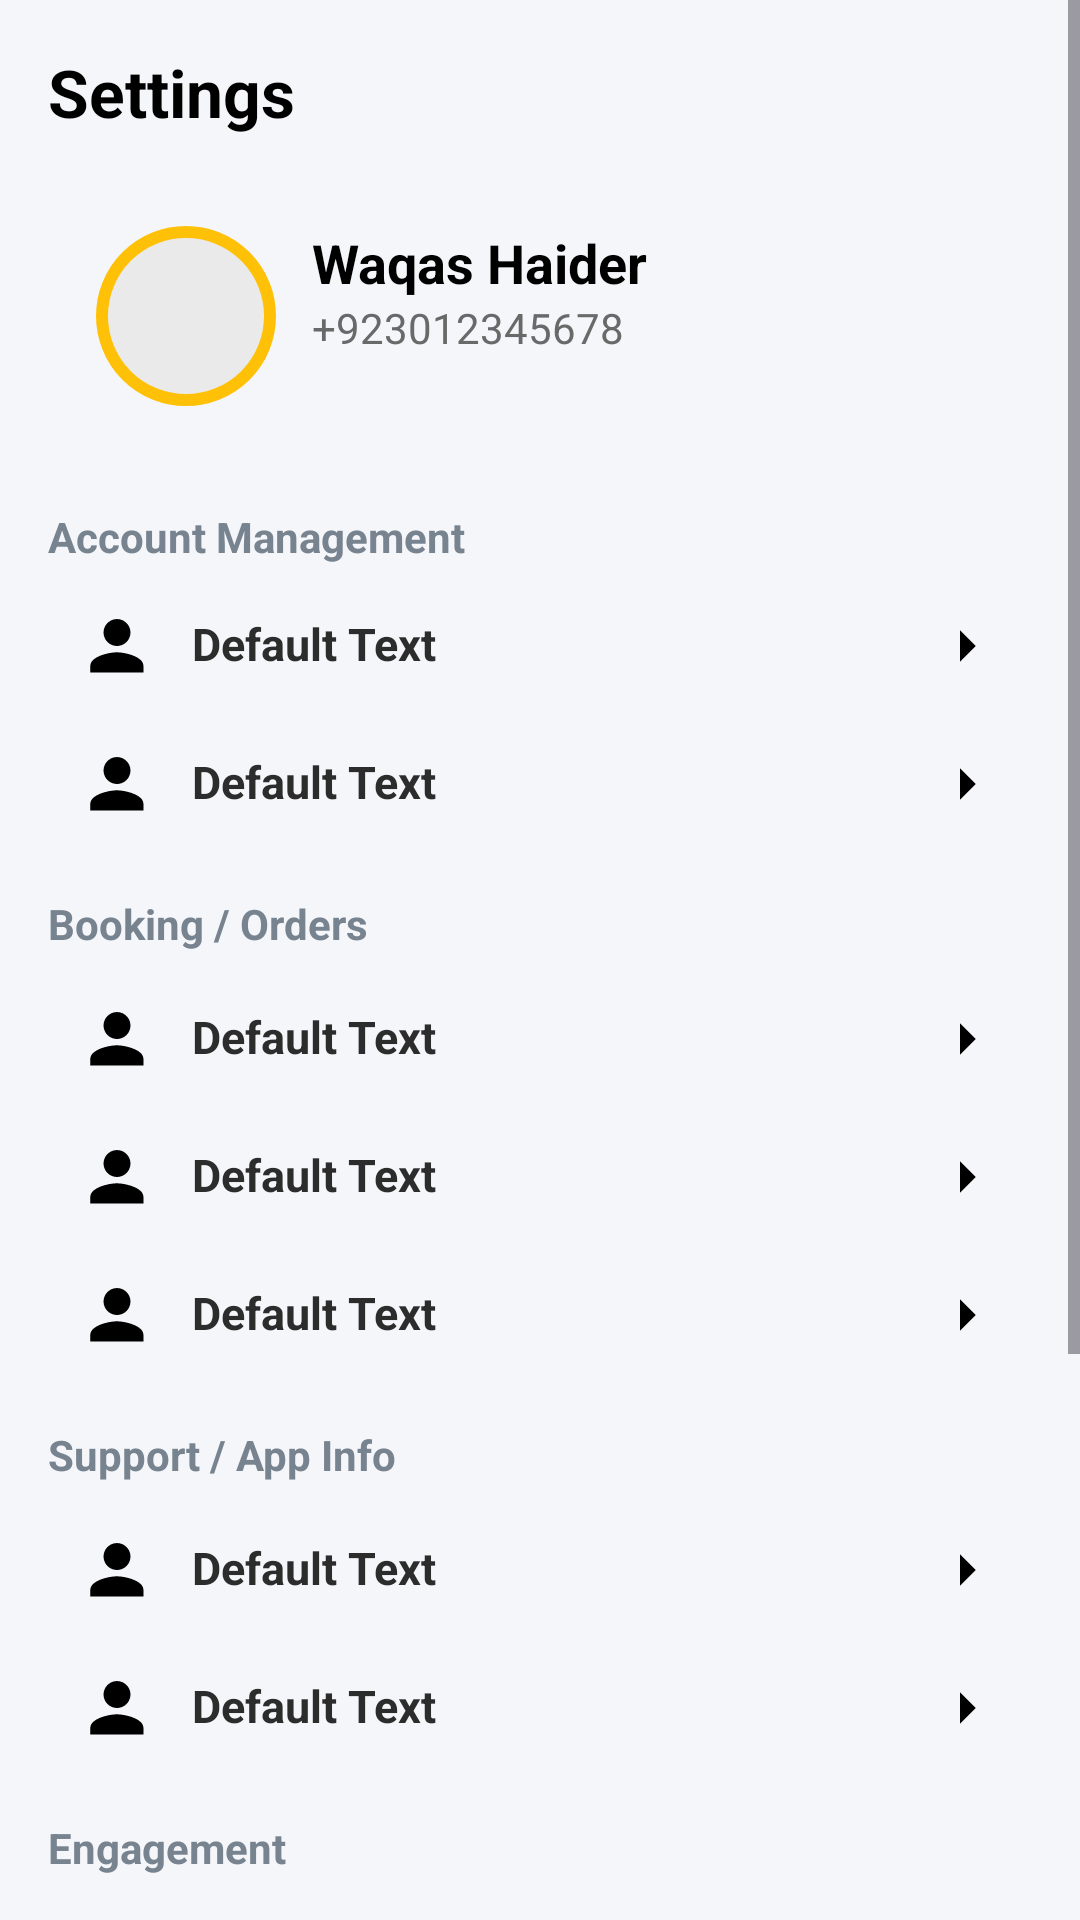

Icons on this 1080 x 1920 Android screen, each with the point to tap as [x,y]:
arrow right: [968,646], [968,784], [968,1039], [968,1177], [968,1315], [968,1570], [968,1708]
user: [117,646], [117,784], [117,1039], [117,1177], [117,1315], [117,1570], [117,1708]
